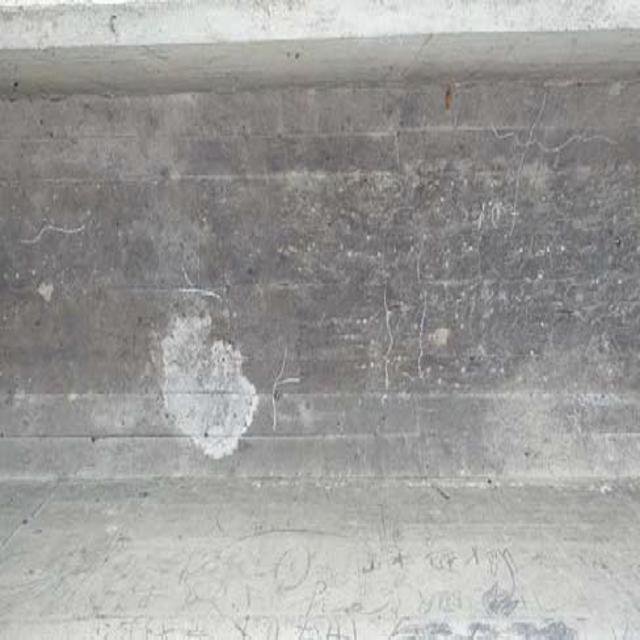freelime: (147, 306, 264, 468)
